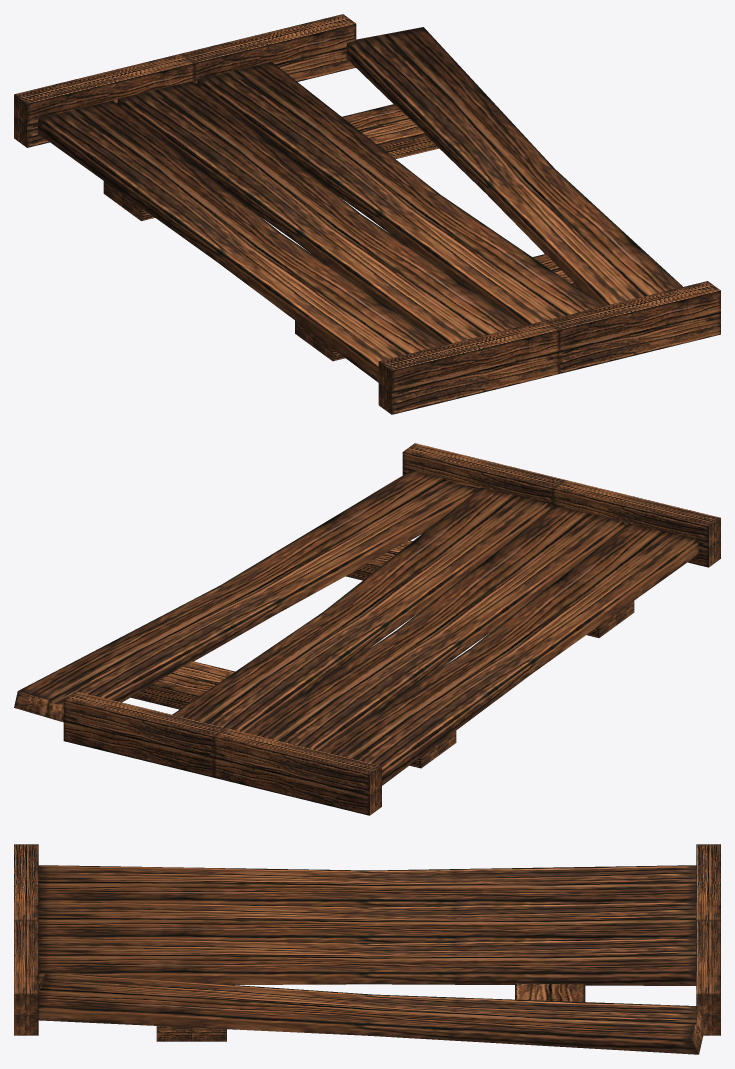
File: RM_FLOATING_PLATFORM02.fbx
3 renders of one model, top to bottom at view 1: azimuth 30°, elevation 25°; view 2: azimuth 150°, elevation 25°; view 3: azimuth 270°, elevation 25°, orthographic. The views are drawn at different scales.
Visible parts, largest first — view 1: RM_FLOATING_PLATFORM02; view 2: RM_FLOATING_PLATFORM02; view 3: RM_FLOATING_PLATFORM02.
Boxes of the visible parts, x1,y1,x2,y2 form: RM_FLOATING_PLATFORM02: [14, 14, 720, 414]; RM_FLOATING_PLATFORM02: [14, 443, 720, 815]; RM_FLOATING_PLATFORM02: [14, 844, 720, 1054].
Size of the model in its own units: 21578 by 2635 by 35801.
Materials: 1 (1 with a texture image).
